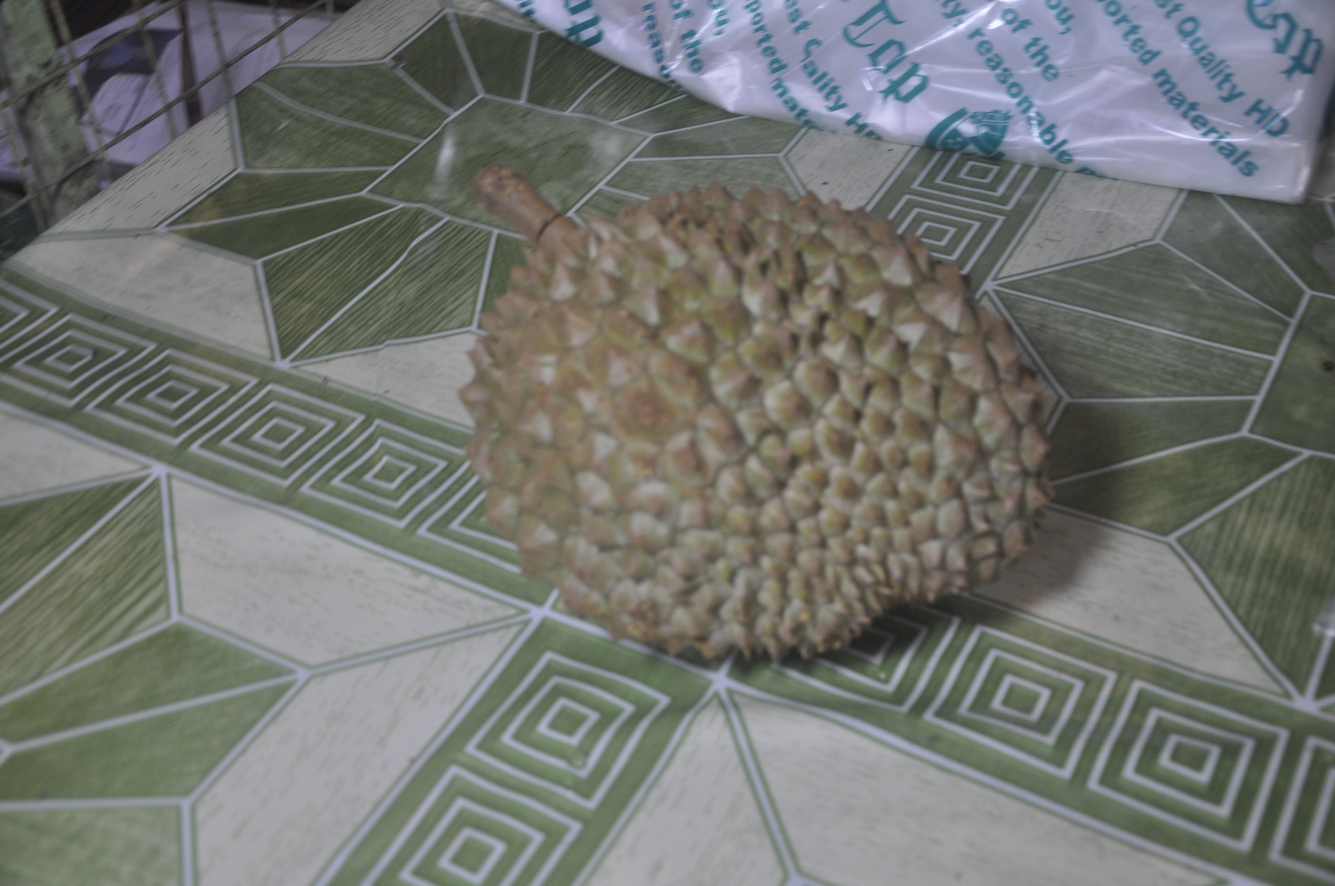mature: (460, 166, 1050, 661)
